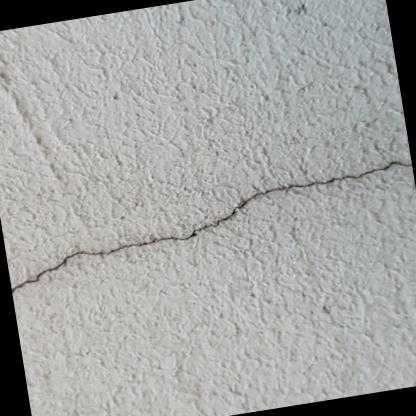crack: (10, 162, 412, 293)
